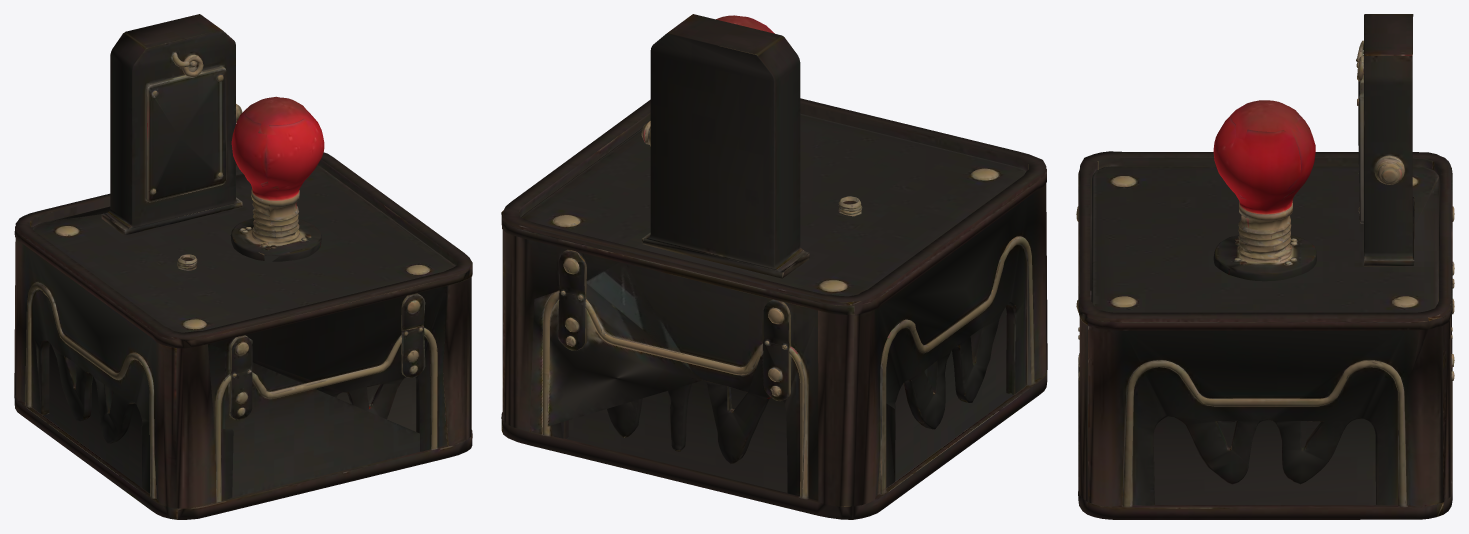
3 views of the same model, side by side, from view 1: azimuth 30°, elevation 25°; view 2: azimuth 150°, elevation 25°; view 3: azimuth 270°, elevation 25° (orthographic). The views are drawn at different scales.
Visible parts, largest first — view 1: midway-fit; view 2: midway-fit; view 3: midway-fit.
Boxes of the visible parts, bbox=[...] form: midway-fit: bbox=[14, 14, 472, 519]; midway-fit: bbox=[501, 14, 1047, 519]; midway-fit: bbox=[1076, 14, 1454, 519].
Bounding box in the file's own units: 0.9191 × 1 × 0.8689.
1 material, 1 textured.
